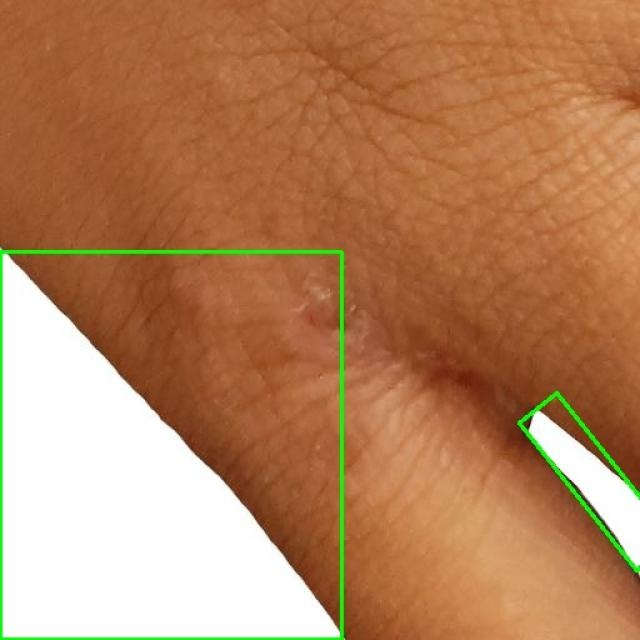Scabies: (0, 251, 341, 639), (519, 393, 640, 571)
